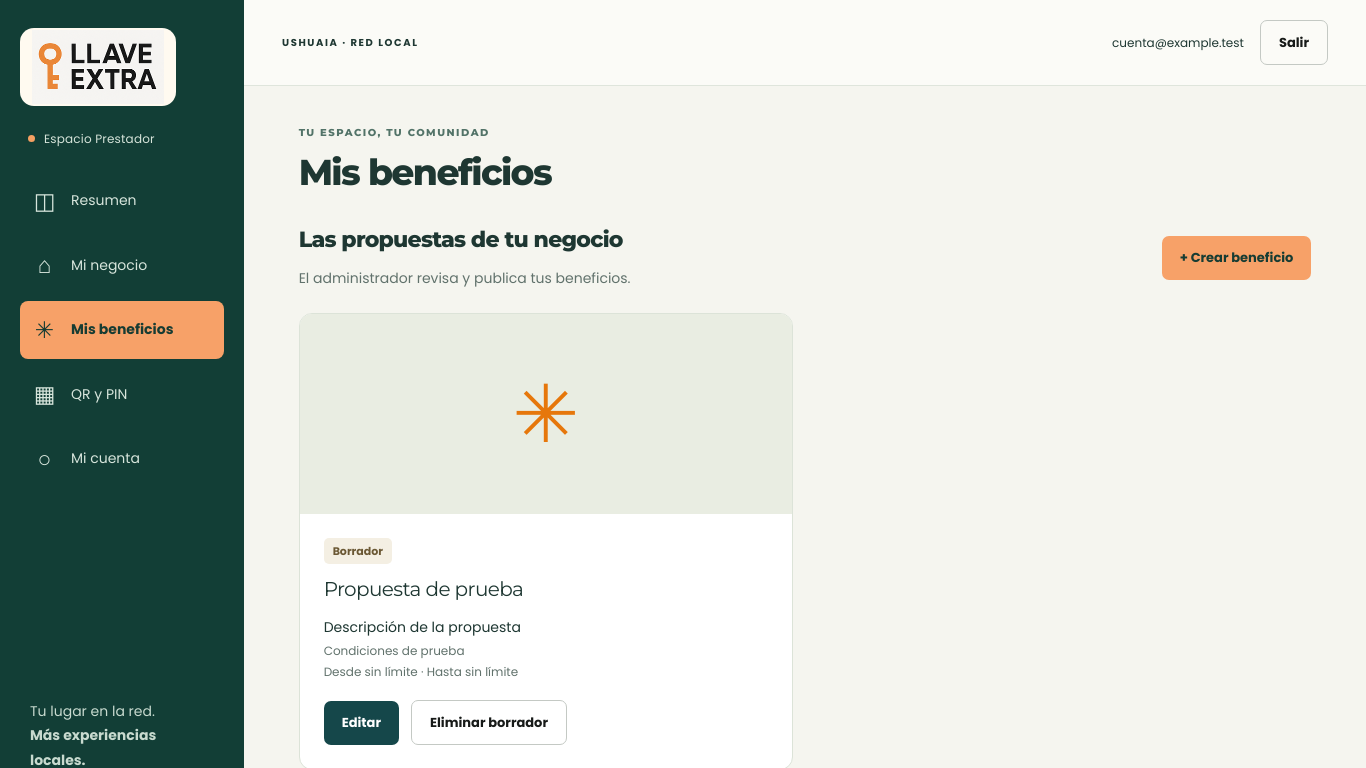
Test: paneles operativos por rol › muestra el conflicto al borrar un borrador seleccionado sin quitar la tarjeta
Click the button "Eliminar borrador": click(489, 723) [411, 700, 567, 745]
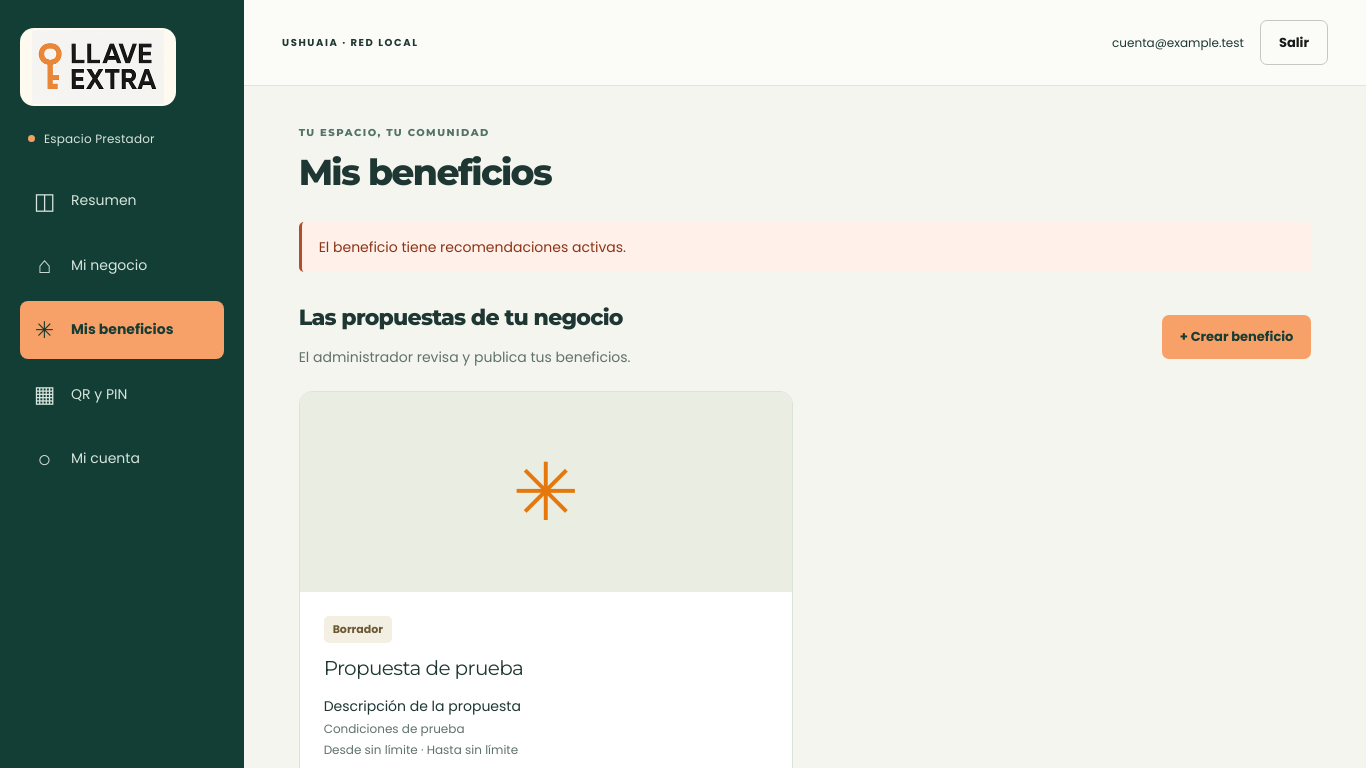
Expected: the heading "Propuesta de prueba" is shown, [324, 656, 523, 680]
Now the text "El beneficio tiene recomendaciones activas." is shown, box [299, 222, 1311, 272]
